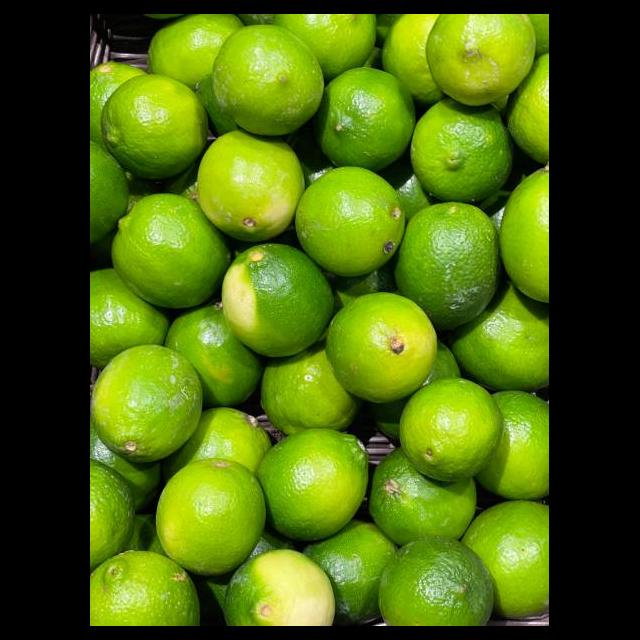lime: (456, 501, 550, 622), (456, 290, 550, 395)
